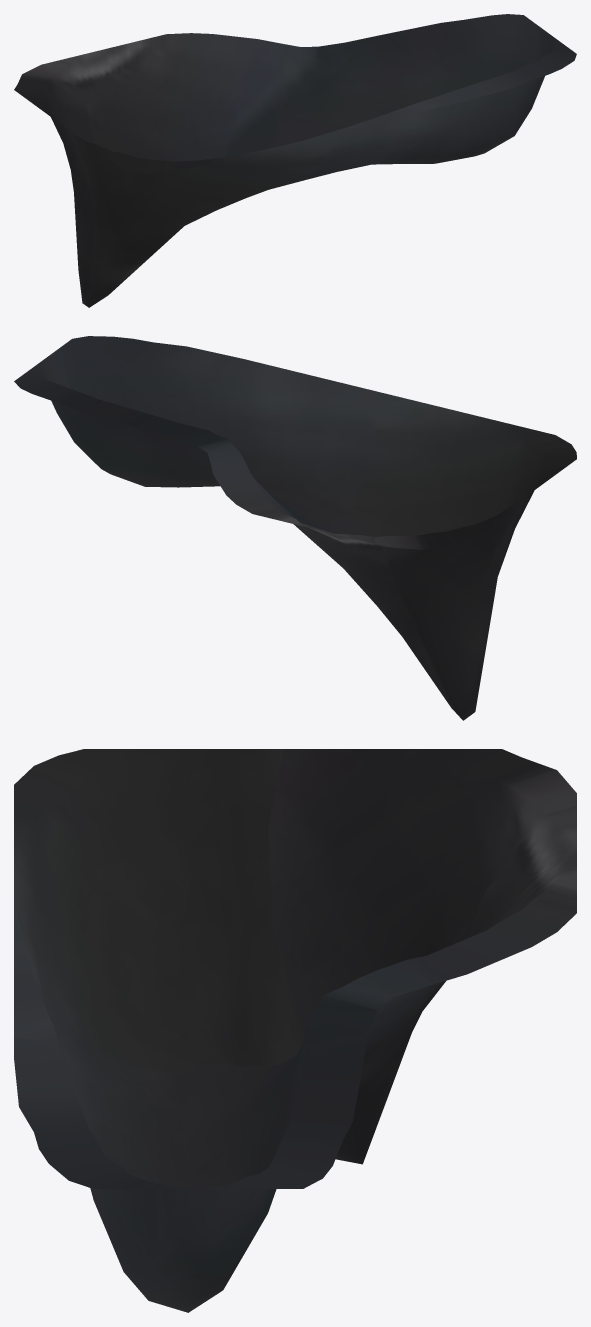
The model's file is z20-167748-405244-h0-yup-uvflip-v3-world.glb.
3 renders of one model, top to bottom at view 1: azimuth 30°, elevation 25°; view 2: azimuth 150°, elevation 25°; view 3: azimuth 270°, elevation 25°, orthographic. The views are drawn at different scales.
Bounding box in the file's own units: 8.36 × 3.4 × 4.52.
Materials: 1 (1 with a texture image).
